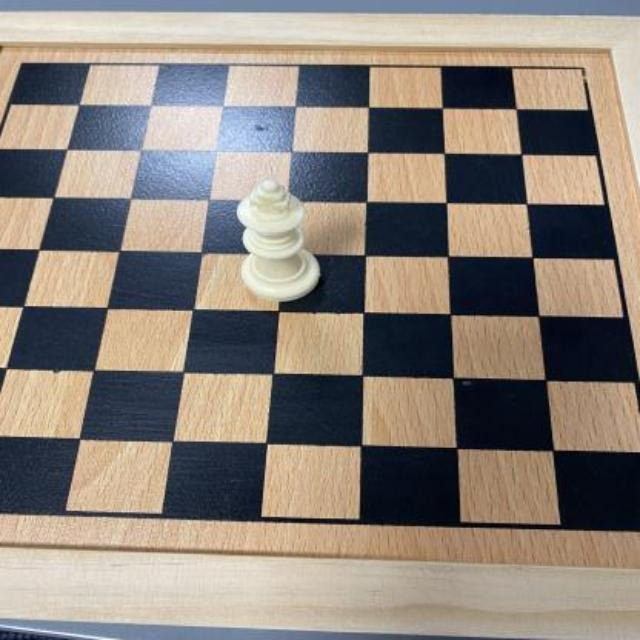white-king: (237, 179, 321, 300)
